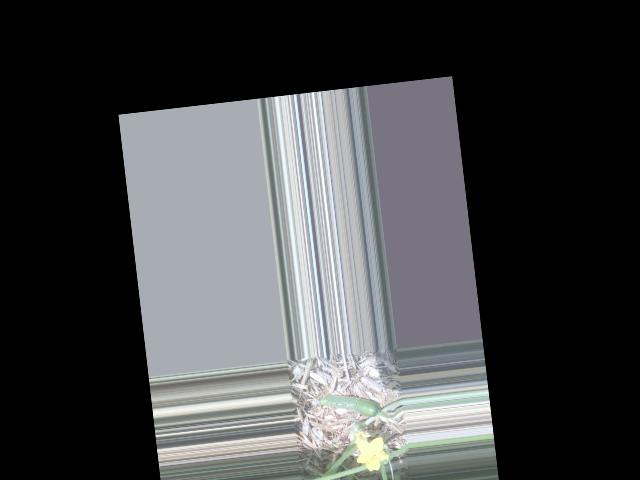cucumber: (313, 389, 380, 424)
